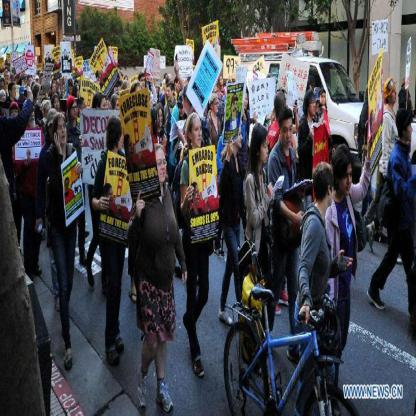face: (340, 166, 353, 196), (156, 151, 168, 181), (282, 119, 294, 148), (192, 121, 203, 148), (58, 117, 67, 144), (261, 134, 269, 162), (328, 177, 334, 208), (116, 127, 123, 150), (50, 119, 58, 138), (237, 124, 243, 149), (407, 117, 413, 142), (99, 100, 107, 118), (309, 98, 316, 116), (11, 107, 19, 121), (29, 107, 36, 123), (159, 109, 165, 127), (195, 186, 201, 204), (128, 140, 134, 158), (71, 104, 78, 119), (391, 86, 397, 102), (11, 84, 17, 98), (45, 106, 52, 118), (213, 99, 219, 113), (115, 101, 121, 115), (183, 95, 188, 111), (108, 190, 113, 206), (233, 100, 238, 115), (55, 99, 61, 111), (320, 93, 326, 105), (179, 103, 184, 117), (244, 94, 249, 108), (168, 88, 173, 101), (141, 78, 146, 90), (98, 69, 103, 81), (163, 135, 168, 147), (52, 85, 57, 94), (77, 84, 80, 98), (83, 100, 87, 110), (146, 73, 150, 83), (216, 89, 220, 99), (155, 85, 159, 95), (6, 73, 10, 83), (3, 92, 7, 102), (70, 84, 74, 93), (221, 76, 225, 85), (177, 80, 181, 89), (66, 179, 69, 191), (120, 73, 123, 82), (29, 78, 32, 86), (119, 84, 122, 92), (65, 49, 68, 55), (23, 80, 25, 86), (41, 75, 43, 80), (9, 65, 11, 70), (37, 80, 39, 84), (26, 79, 28, 82), (69, 53, 70, 56)
